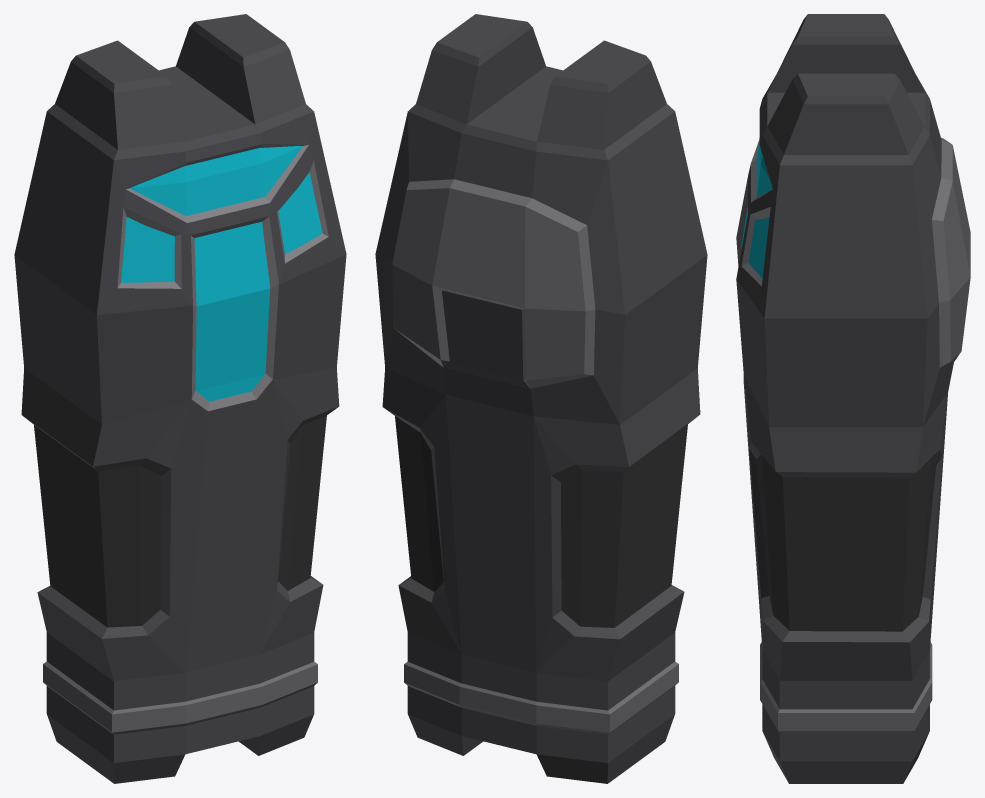
Rendered from SM_Veh_EscapePod_Small_01.glb.
The picture shows the model from 3 angles, left to right: view 1: azimuth 30°, elevation 25°; view 2: azimuth 150°, elevation 25°; view 3: azimuth 270°, elevation 25°; orthographic projection.
Parts seen in each view (by area): view 1: SM_Veh_EscapePod_Small_01; view 2: SM_Veh_EscapePod_Small_01; view 3: SM_Veh_EscapePod_Small_01.
Boxes of the visible parts, x1,y1,x2,y2 form: SM_Veh_EscapePod_Small_01: (14, 14, 346, 783); SM_Veh_EscapePod_Small_01: (375, 14, 707, 783); SM_Veh_EscapePod_Small_01: (736, 14, 970, 783).
Size of the model in its own units: 1.11 by 2.92 by 0.9089.
Materials: 1 (1 with a texture image).
